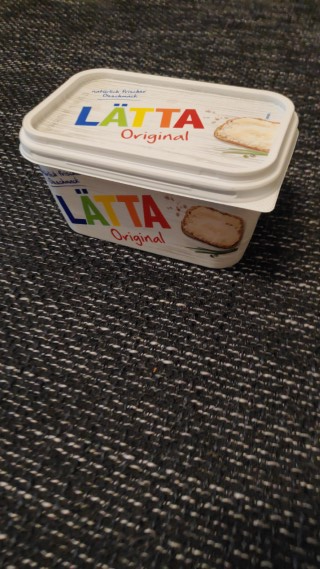laetta: (18, 67, 300, 270)
